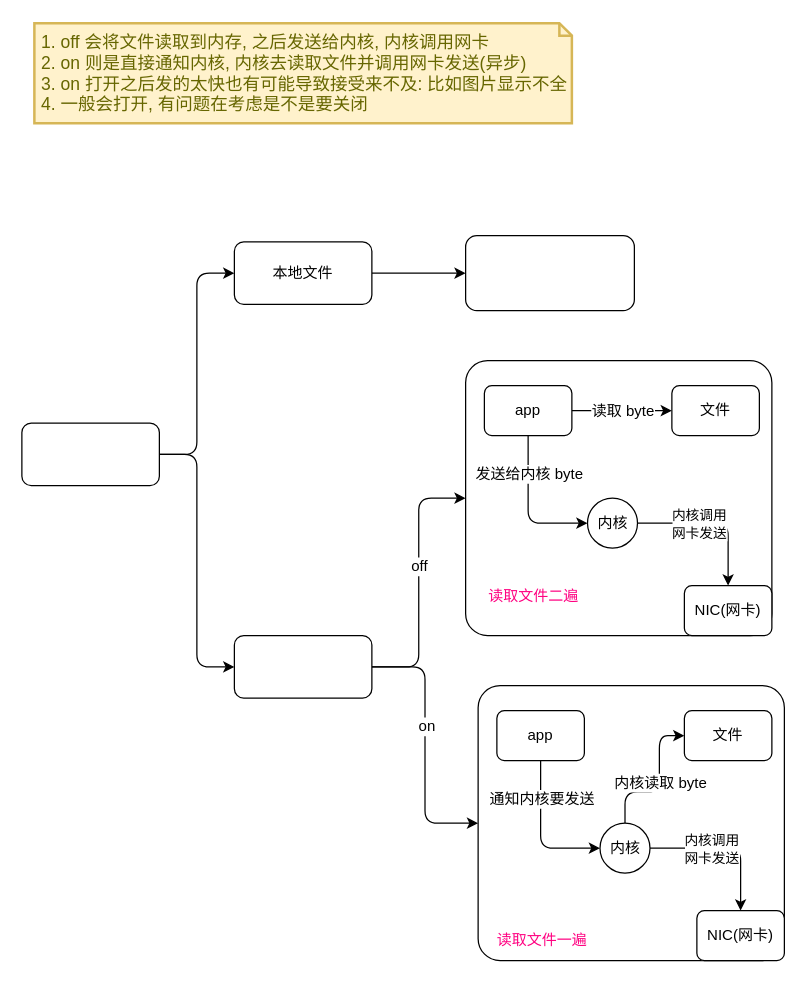
The diagram is 806 pixels wide and 983 high, and some of its shapes have lost their labels. Here are the shapes that lost their labels. From the top down, the centre of each, then its label:
At pixel 549 272: "off 相当于复制 ctrl+ c/v on 相当于剪切 ctrl+ x/v".
At pixel 90 454: "sendfile".
At pixel 302 666: "网络IO".
